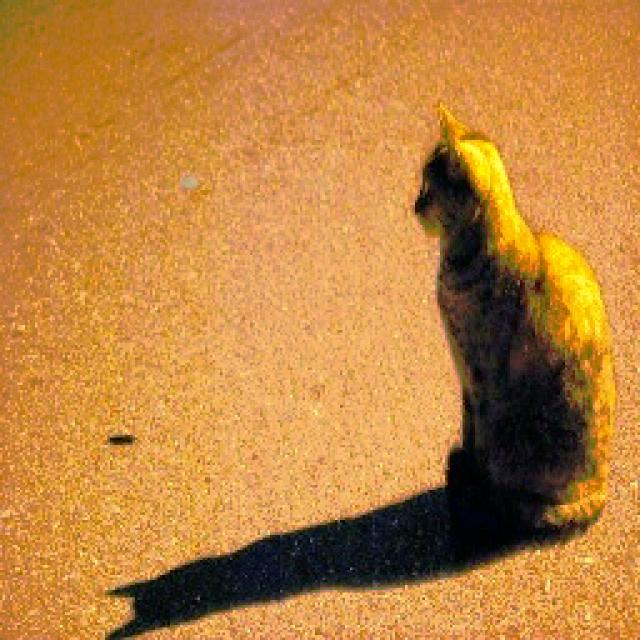cat: (362, 75, 640, 555)
